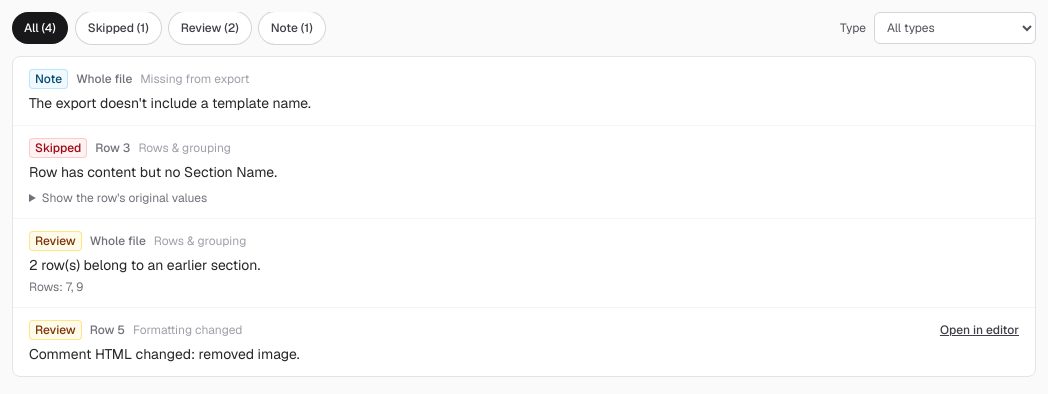
Test: IssueList › counts by severity and filters
This screenshot has width=1048, height=394.
expect the button "All (4)" is shown: met, box [12,12,68,44]
expect the button "Review (2)" is shown: met, box [169,12,251,44]
Click the button "Skipped (1)".
click(118, 28)  # box [76,12,161,44]
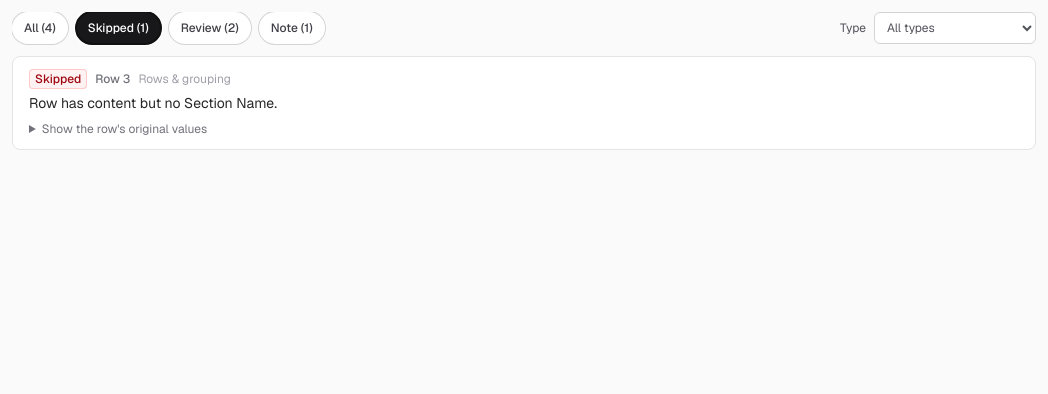
expect the text "Row 3" is shown: met, box [95,71,130,87]
expect the number of list items is 1: met, box [29,69,277,137]
